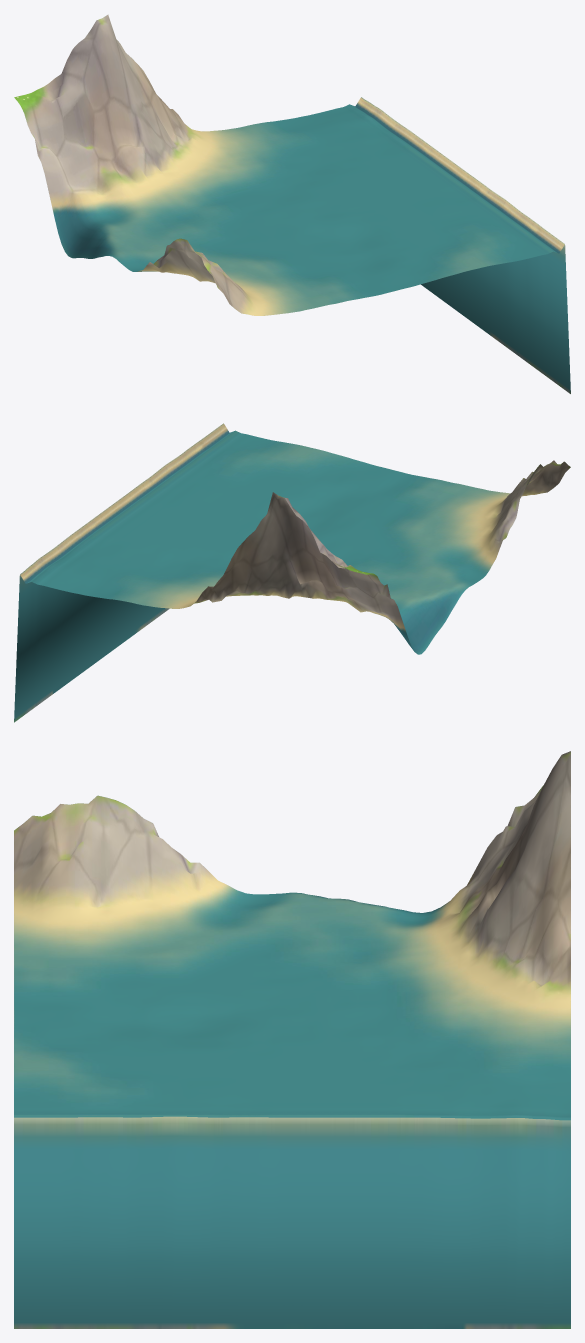
3 renders of one model, top to bottom at view 1: azimuth 30°, elevation 25°; view 2: azimuth 150°, elevation 25°; view 3: azimuth 270°, elevation 25°, orthographic. The views are drawn at different scales.
Parts seen in each view (by area): view 1: t192_064; view 2: t192_064; view 3: t192_064.
Boxes of the visible parts, box(x1,y1,x2,y2) form: t192_064: box(14, 14, 570, 393); t192_064: box(14, 423, 570, 722); t192_064: box(14, 751, 570, 1328).
Size of the model in its own units: 64 by 50.92 by 64.
1 material, 1 textured.
